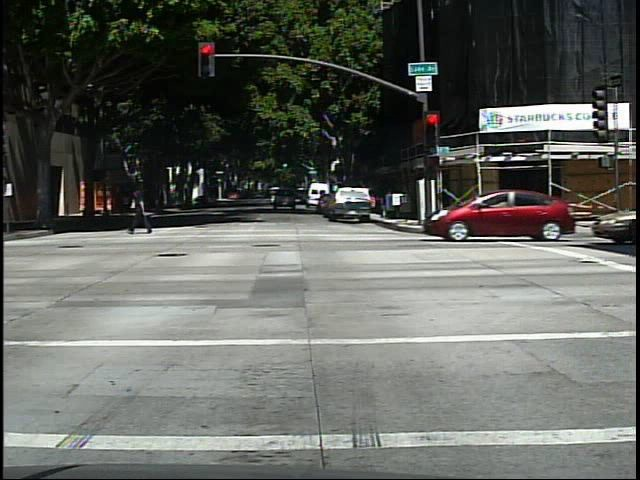person: (126, 183, 159, 235)
